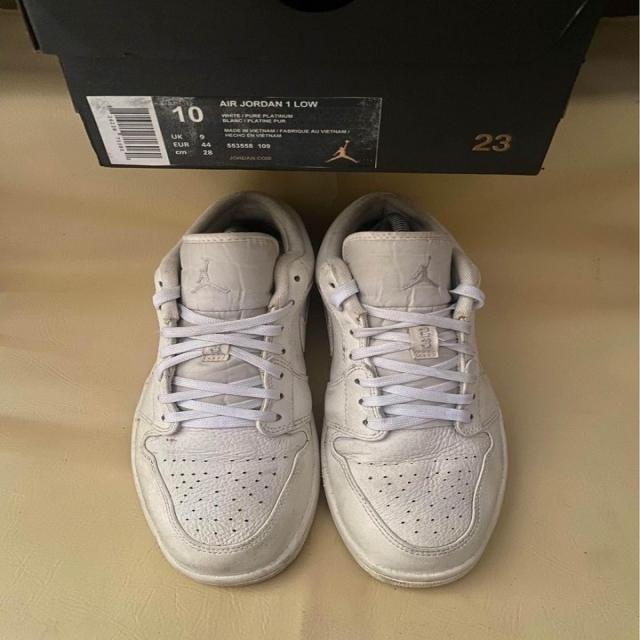nike fake air force: (310, 189, 512, 592), (132, 191, 318, 588)
